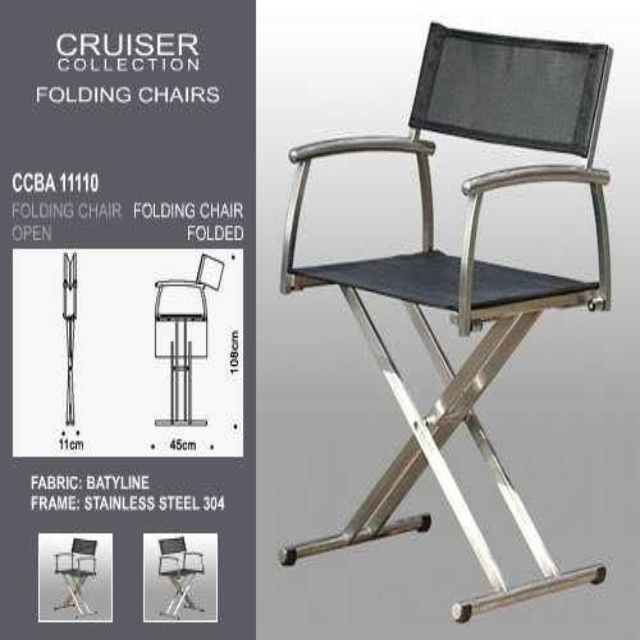obstacle: (278, 23, 612, 620)
